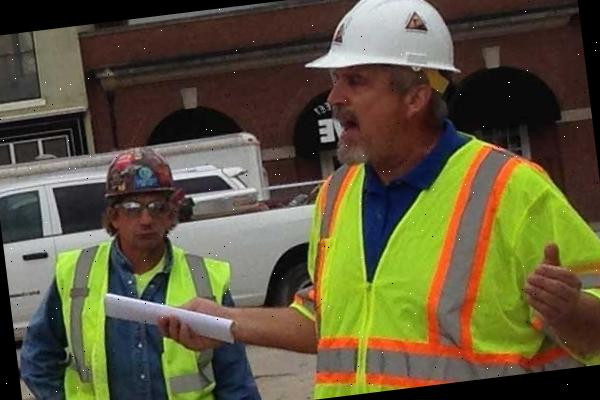helmet: (296, 0, 467, 92), (95, 143, 176, 200)
wear: (282, 136, 600, 399), (57, 238, 234, 400)
